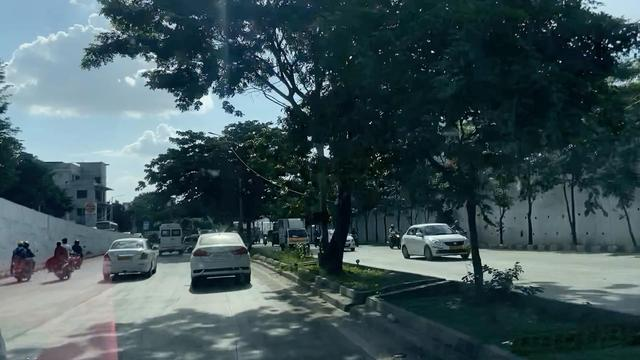LMV: (194, 234, 251, 281), (102, 238, 153, 274), (51, 241, 76, 280), (12, 240, 32, 283)
